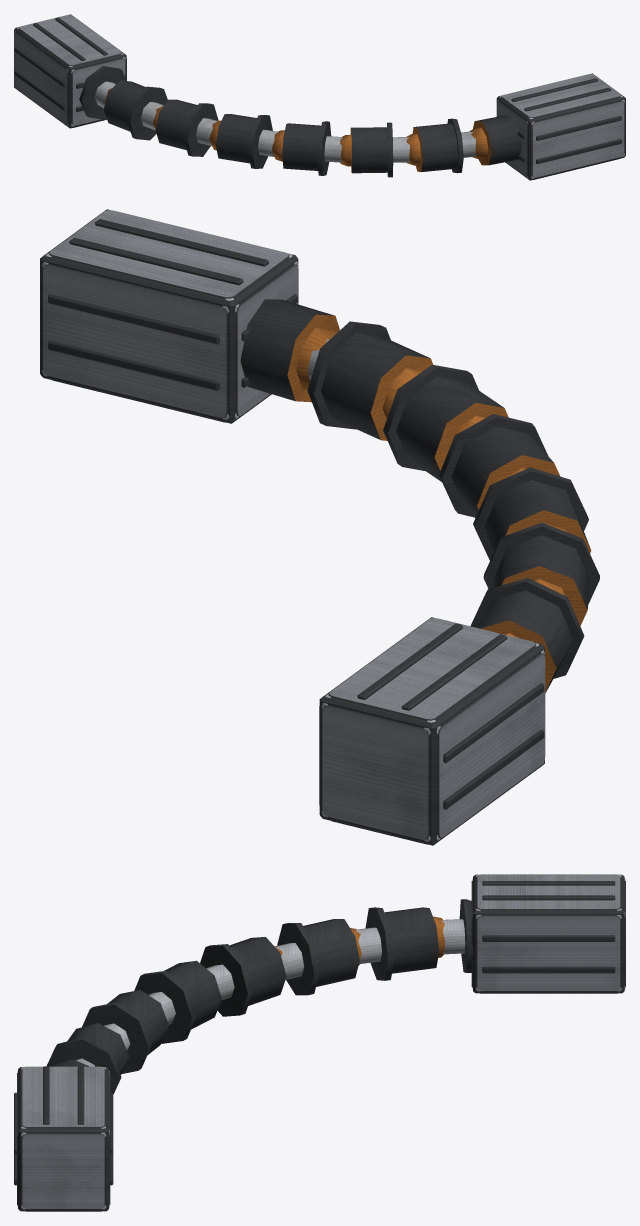
File: R4C_ROD_ARC_LONG.glb
The picture shows the model from 3 angles, top to bottom: view 1: azimuth 30°, elevation 25°; view 2: azimuth 150°, elevation 25°; view 3: azimuth 270°, elevation 25°; orthographic projection. The views are drawn at different scales.
Parts seen in each view (by area): view 1: R4C_ROD_ARC_LONG; view 2: R4C_ROD_ARC_LONG; view 3: R4C_ROD_ARC_LONG.
Part boxes in pixels (x1=…): R4C_ROD_ARC_LONG: x1=14, y1=14, x2=625, y2=180; R4C_ROD_ARC_LONG: x1=40, y1=209, x2=599, y2=845; R4C_ROD_ARC_LONG: x1=14, y1=874, x2=625, y2=1211.
Bounding box in the file's own units: 1.48 × 0.233 × 1.48.
Materials: 4 (4 with a texture image).
